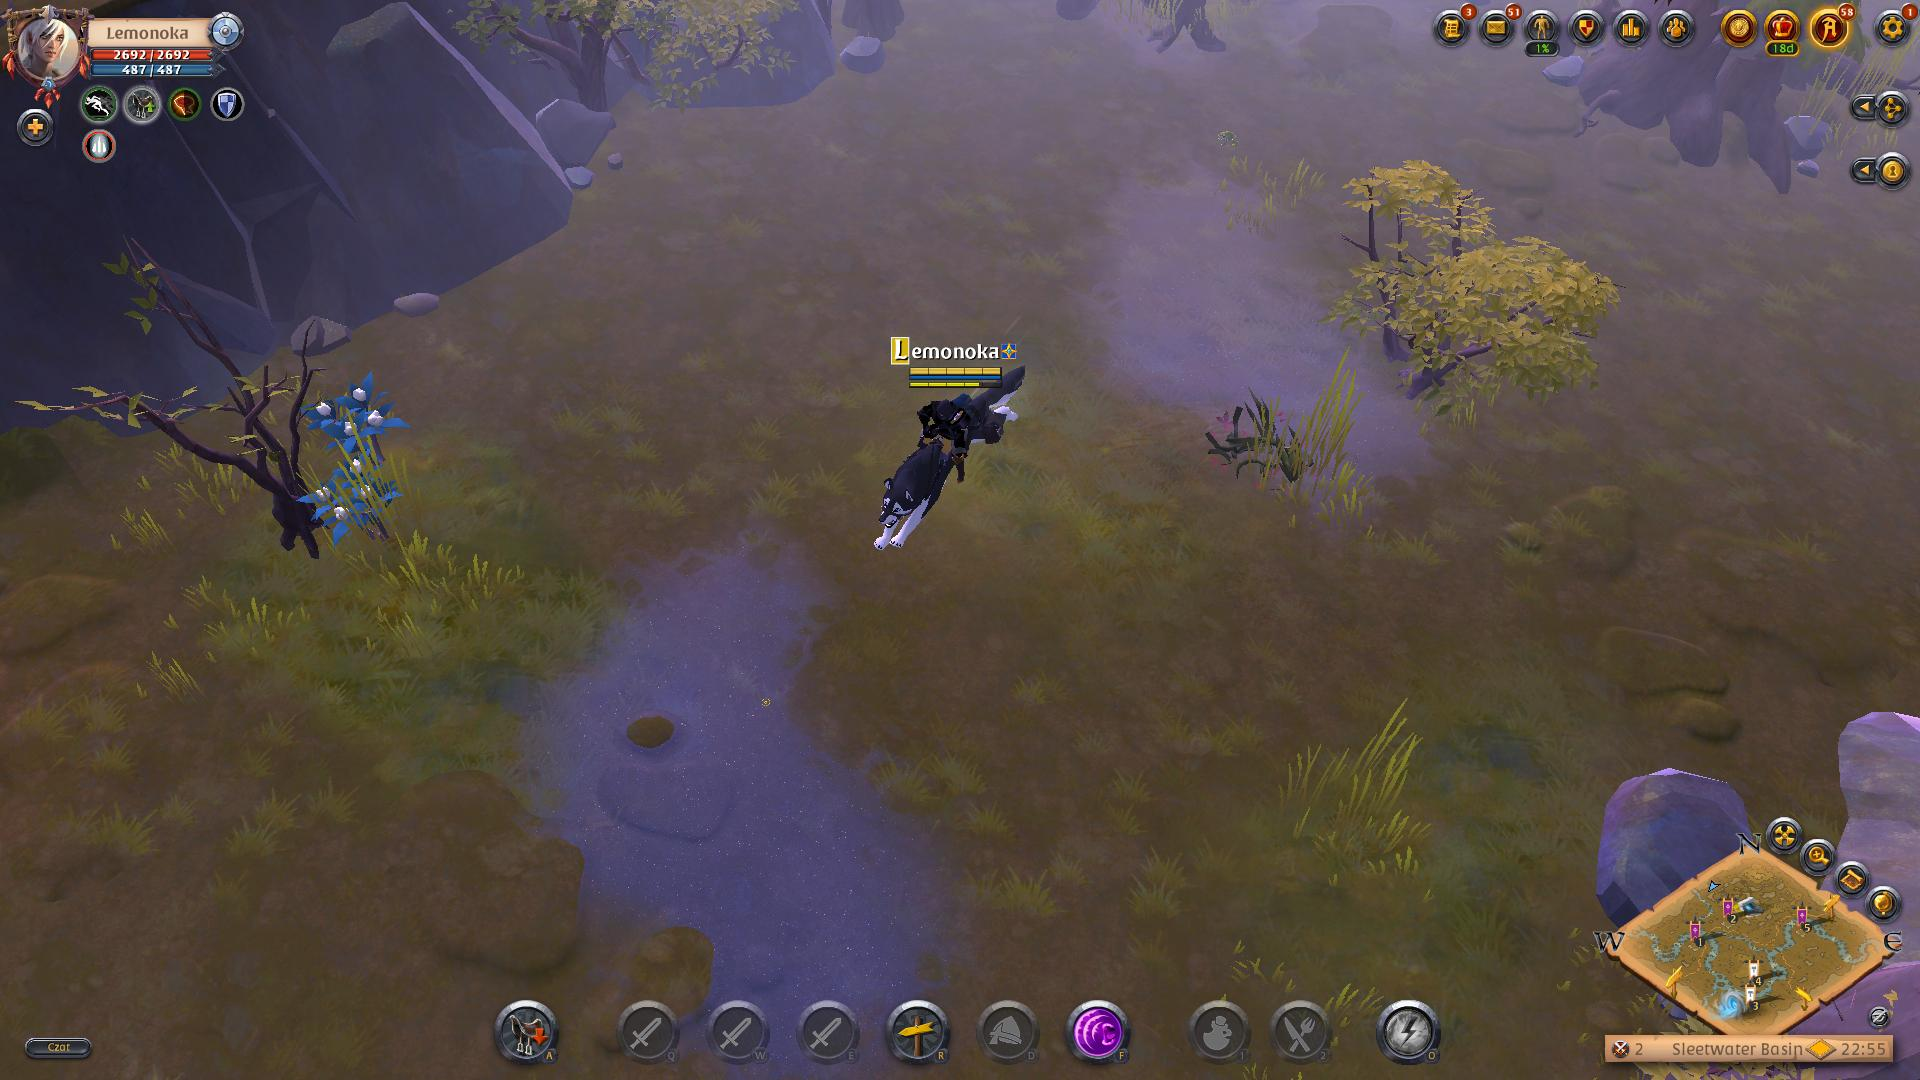fiber tier 4: (307, 368, 406, 460)
